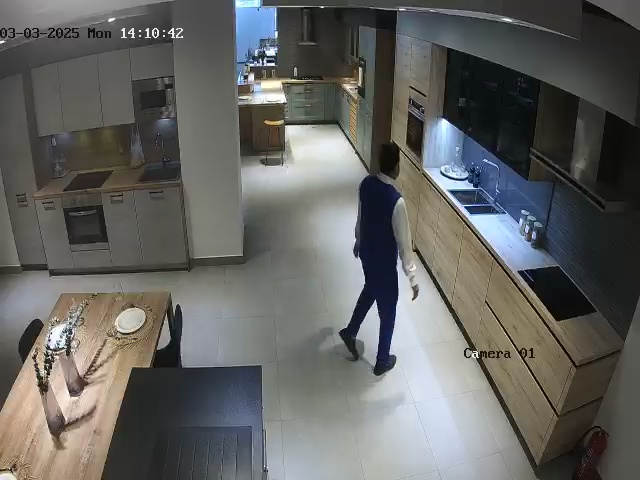employee: (338, 142, 420, 377)
